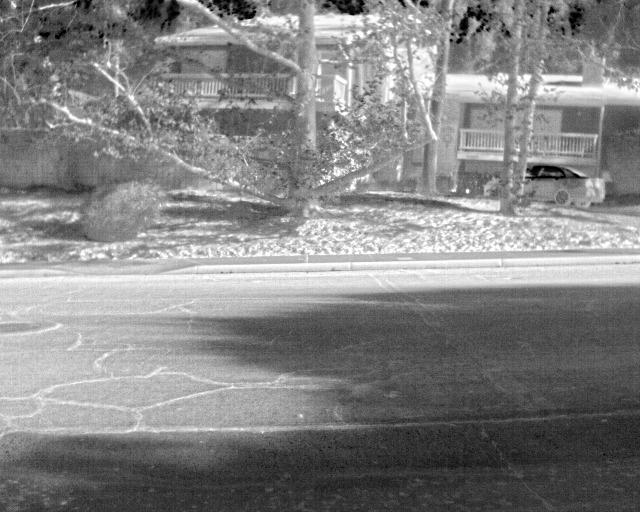car: (505, 156, 598, 215)
